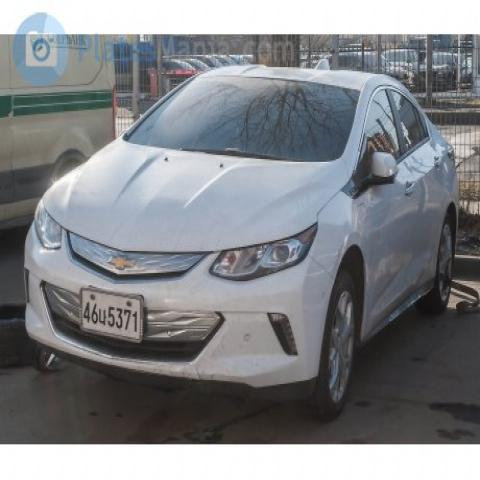LP: (70, 281, 148, 351)
